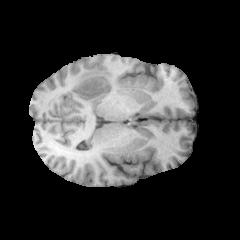glioma: (63, 65, 114, 100)
